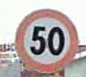limite 50: (14, 8, 79, 71)
